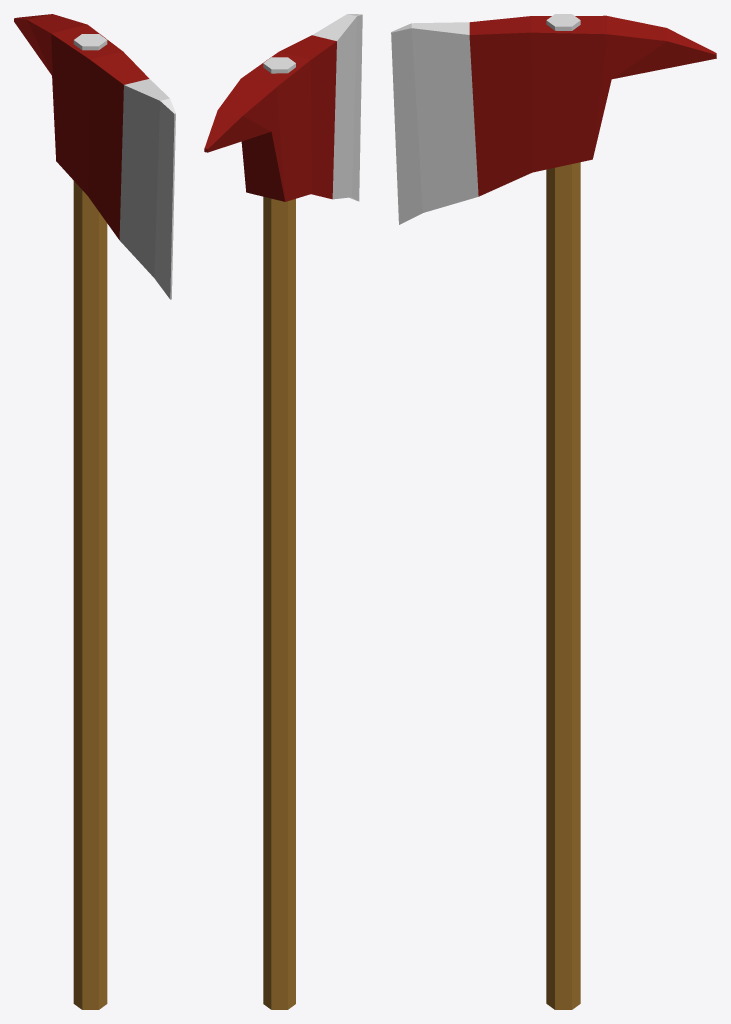
File: Axe.fbx
The picture shows the model from 3 angles, left to right: view 1: azimuth 30°, elevation 25°; view 2: azimuth 150°, elevation 25°; view 3: azimuth 270°, elevation 25°; orthographic projection. The views are drawn at different scales.
Visible parts, largest first — view 1: Cylinder; view 2: Cylinder; view 3: Cylinder.
Part boxes in pixels (bbox=[...]): Cylinder: bbox=[14, 14, 175, 1009]; Cylinder: bbox=[204, 14, 362, 1009]; Cylinder: bbox=[391, 14, 716, 1009].
Bounding box in the file's own units: 11.71 × 269 × 80.8.
